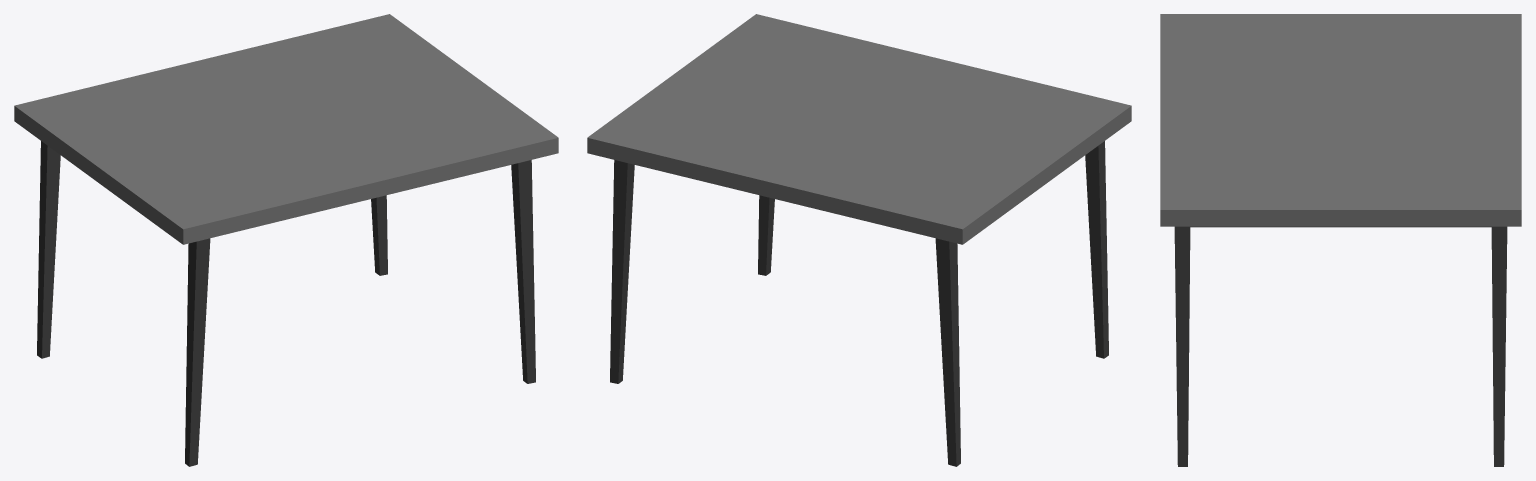
Rendered from kitchen_table_018.glb.
3 views of the same model, side by side, from view 1: azimuth 30°, elevation 25°; view 2: azimuth 150°, elevation 25°; view 3: azimuth 270°, elevation 25° (orthographic). The views are drawn at different scales.
Parts seen in each view (by area): view 1: kitchen_table_018; view 2: kitchen_table_018; view 3: kitchen_table_018.
Part boxes in pixels (<box>): kitchen_table_018: <box>14,14,558,466</box>; kitchen_table_018: <box>587,14,1131,466</box>; kitchen_table_018: <box>1160,14,1521,466</box>.
Size of the model in its own units: 1.1 by 0.6951 by 0.8612.
Materials: 1 (1 with a texture image).
